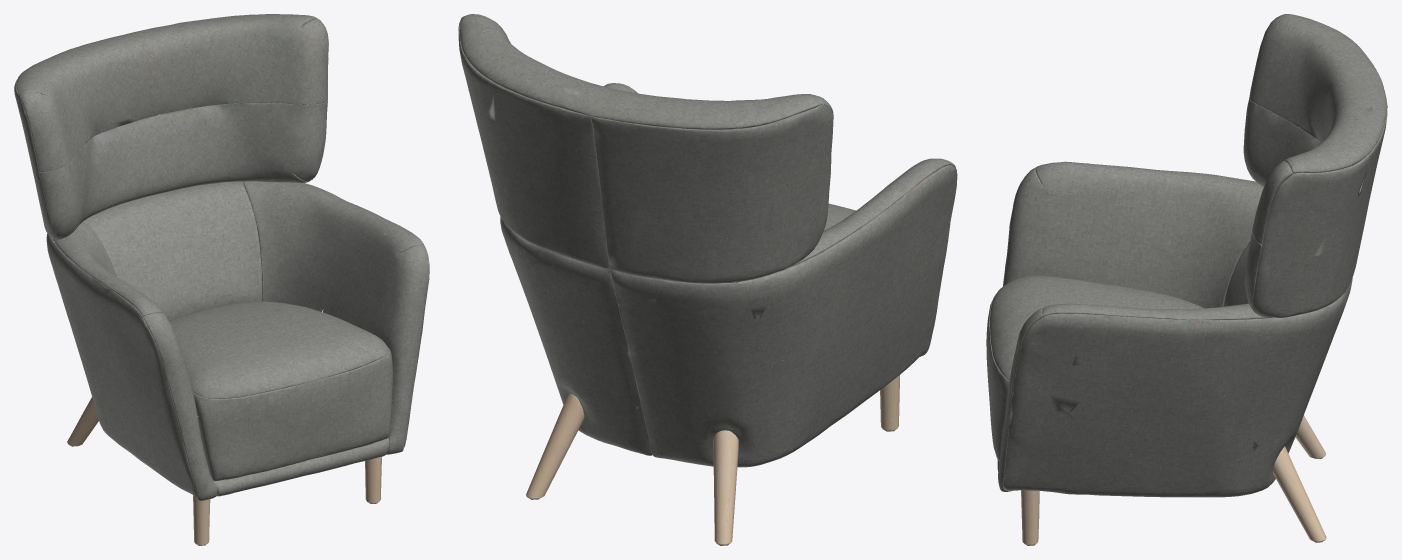
3 renders of one model, left to right at view 1: azimuth 30°, elevation 25°; view 2: azimuth 150°, elevation 25°; view 3: azimuth 270°, elevation 25°, orthographic. The views are drawn at different scales.
Parts seen in each view (by area): view 1: model; view 2: model; view 3: model.
Boxes of the visible parts, x1,y1,x2,y2 form: model: (14, 14, 429, 545); model: (458, 14, 957, 545); model: (986, 14, 1387, 545).
Size of the model in its own units: 0.8355 by 0.9941 by 0.88.
1 material, 1 textured.
